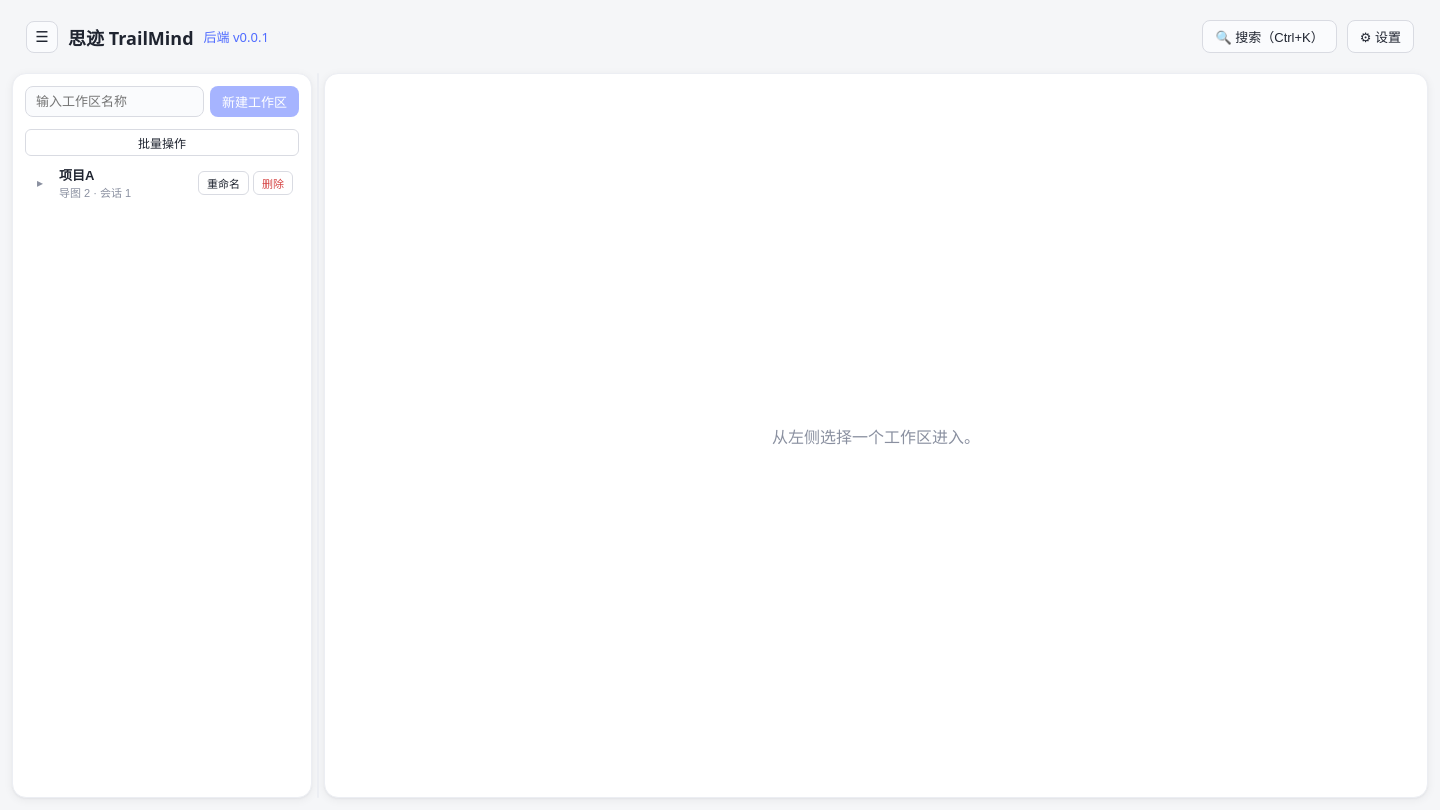
Test: App 首页 › 点击工作区进入 overview 显示统计与空态引导（03 §7.1）
Step 1. Click the button "项目A 导图 2 · 会话 1" → (124, 182), box [53, 164, 194, 201]
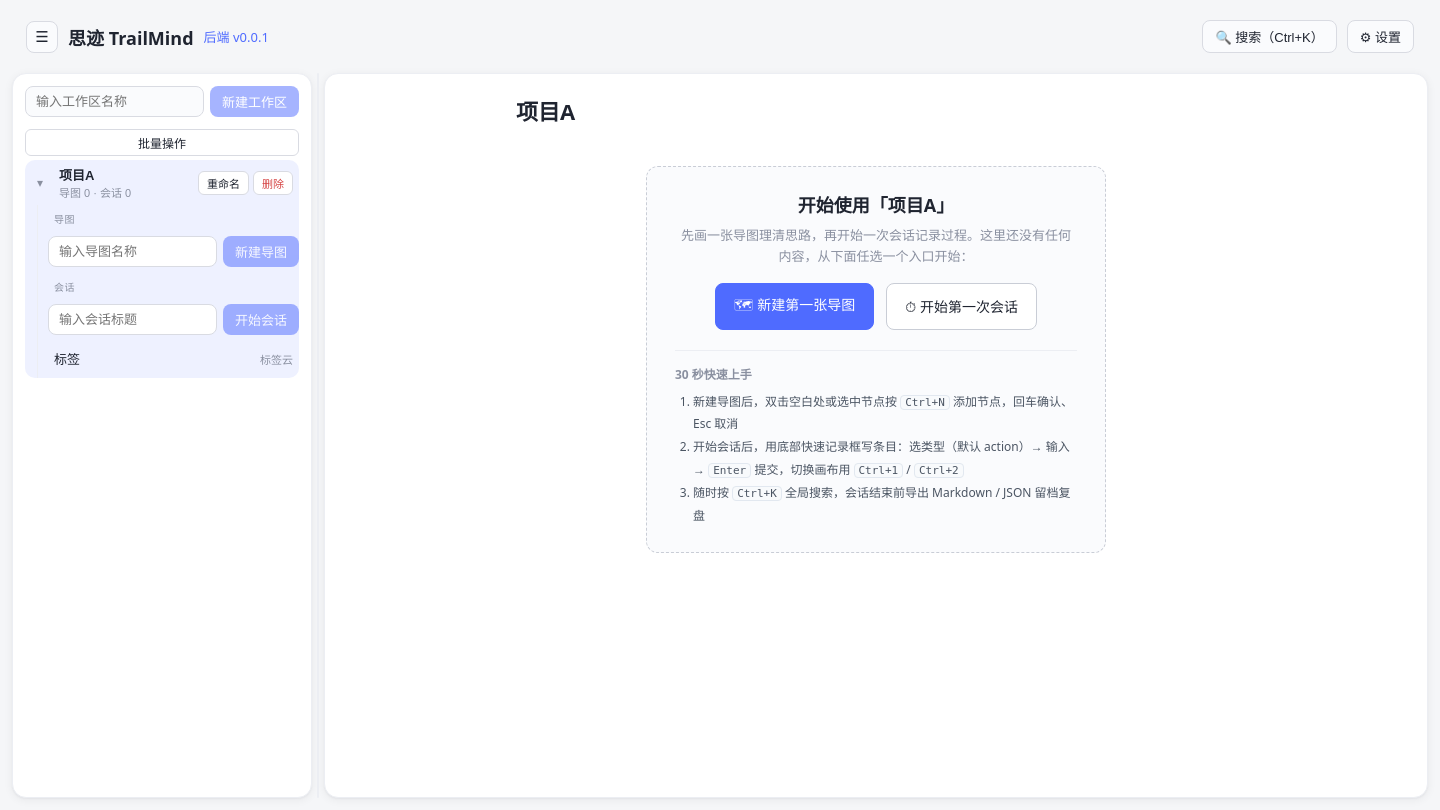
Check: the text "导图 0 · 会话 0" is shown, box [59, 184, 131, 200]
Check: the element with test id "empty-guide" is shown, box [646, 166, 1106, 553]
Check: the button "🗺 新建第一张导图" is shown, box [715, 283, 874, 330]
